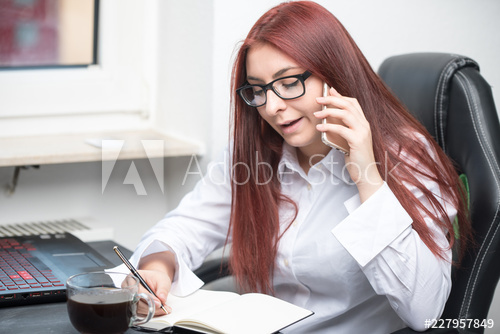phone: (314, 73, 367, 155)
talk: (240, 62, 379, 172)
